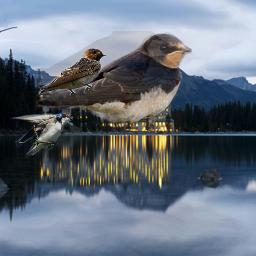Swallow: (36, 31, 192, 130), (37, 47, 106, 97), (10, 112, 73, 160)
